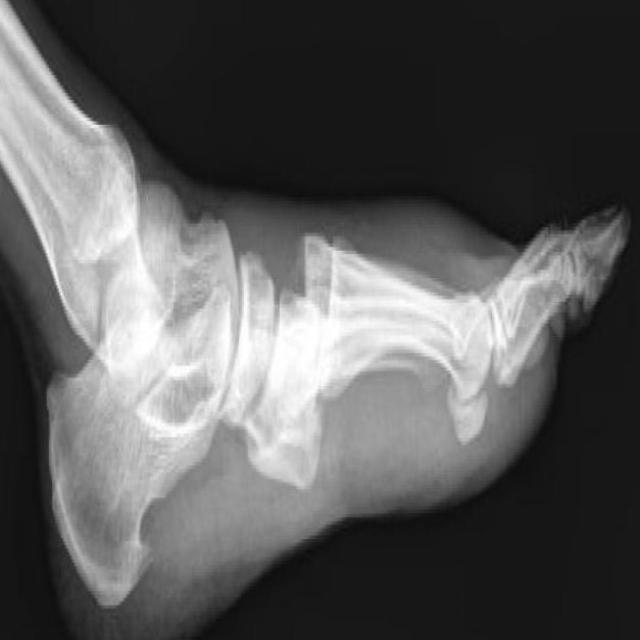Fracture: (100, 168, 268, 428)
